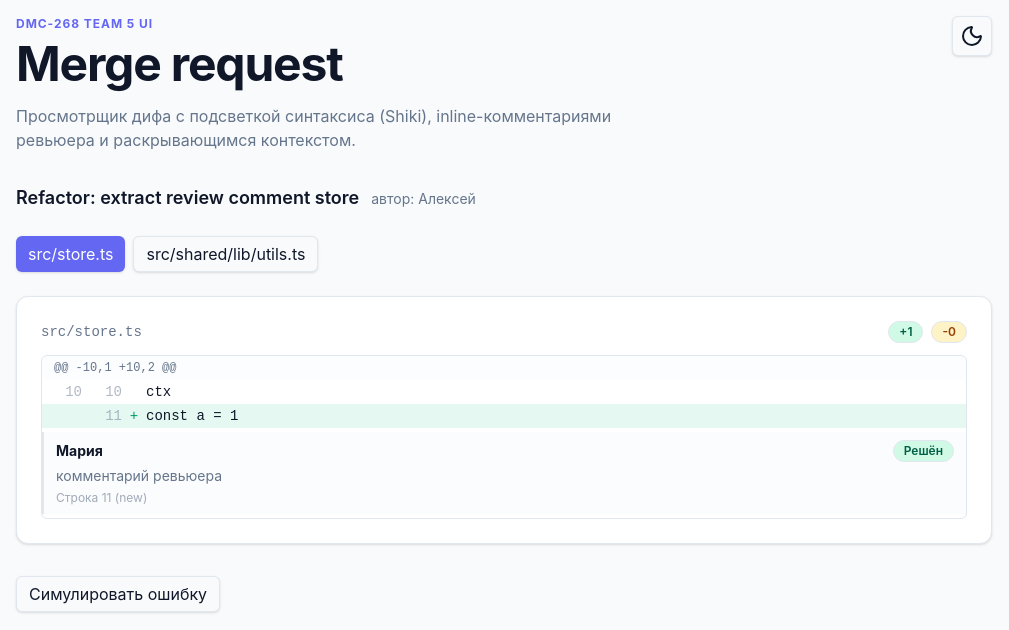
Scenario: App (MergeRequestPage) › shows an error and allows retrying
Expected: the text "const a = 1" is shown, [146,408,238,424]
Click the button "Симулировать ошибку" at (118,594), box [16,576,220,612]
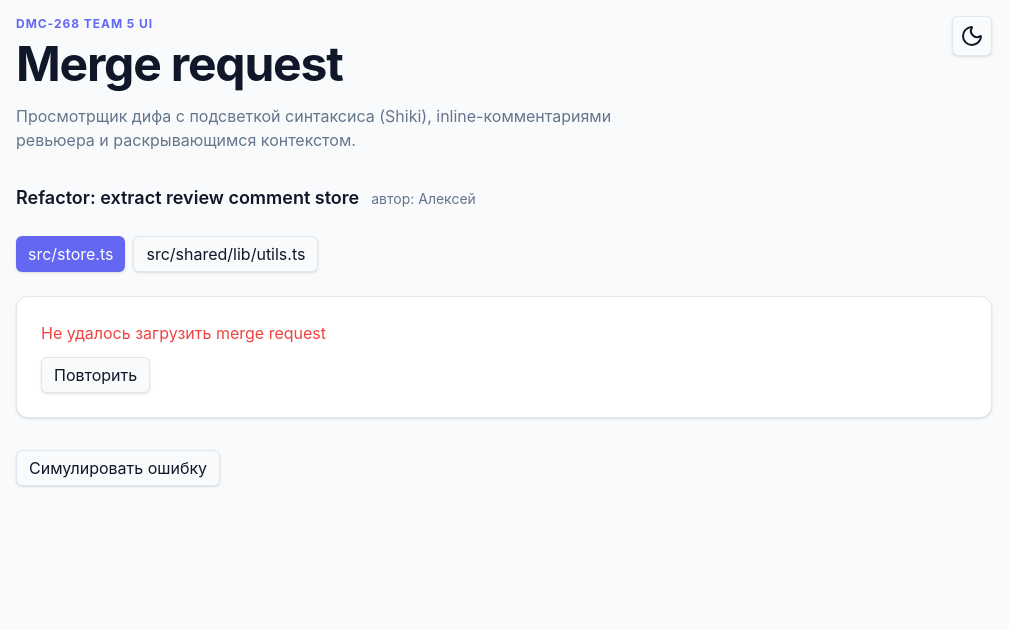
Result: the text "Не удалось загрузить merge request" is shown at [41,323,326,343]
Result: the button "Повторить" is shown
Click the button "Повторить" at (96,375), box [41,357,150,393]
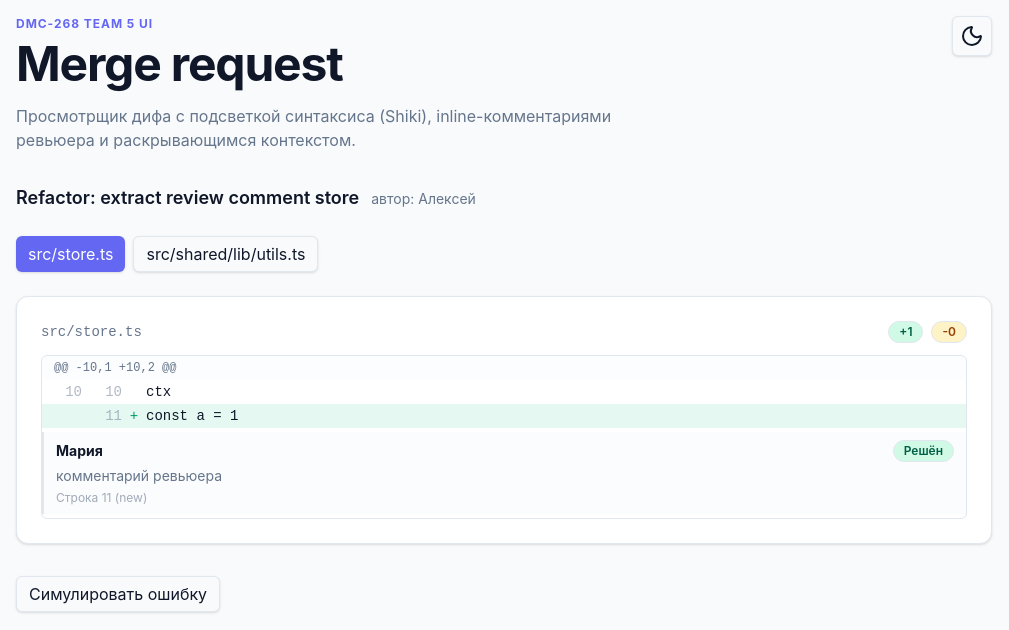
Result: the text "const a = 1" is shown at [146,408,238,424]
